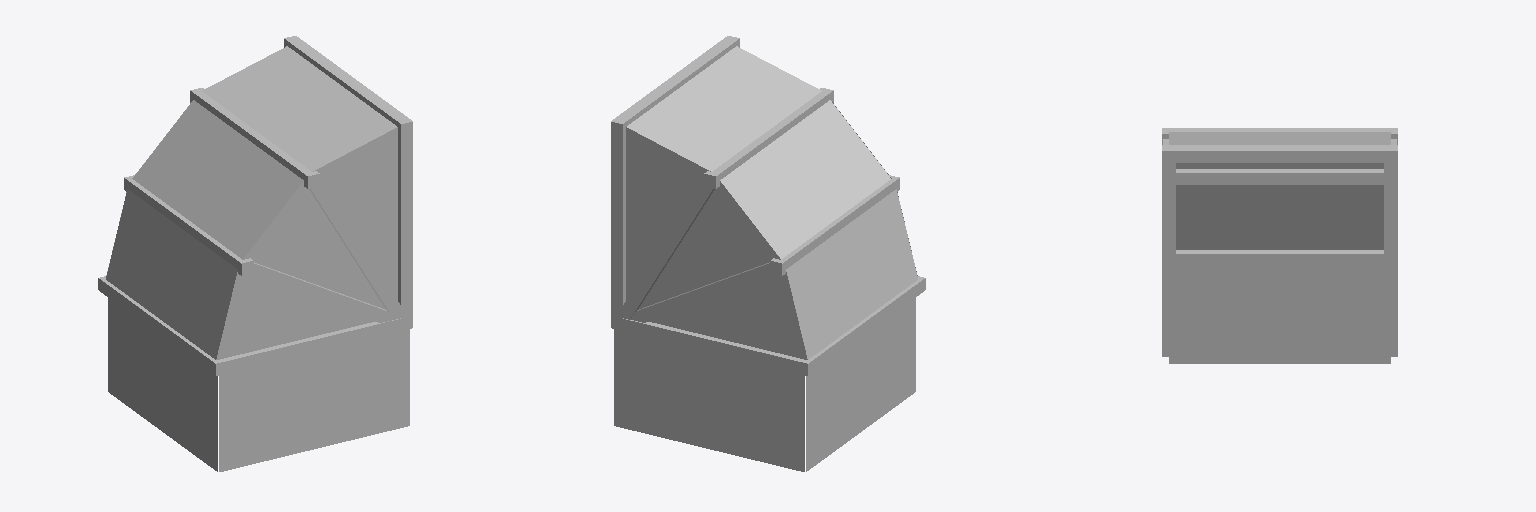
The model's file is mt_awning_basket_single.obj.
3 renders of one model, left to right at view 1: azimuth 30°, elevation 25°; view 2: azimuth 150°, elevation 25°; view 3: azimuth 270°, elevation 25°, orthographic.
Parts seen in each view (by area): view 1: cube.015, cube, cube.001, cube.000, cube.003, cube.012, cube.011, cube.013, cube.014, cube.010, cube.018, cube.016 (+4 smaller); view 2: cube.006, cube, cube.001, cube.000, cube.003, cube.004, cube.005, cube.008, cube.007, cube.009, cube.020, cube.016 (+4 smaller); view 3: cube.003, cube.000, cube.016, cube.002, cube.021, cube.001, cube.009, cube.010, cube, cube.022.
Part boxes in pixels (bbox=[...]): cube.015: bbox=[219, 329, 409, 471]; cube: bbox=[133, 100, 303, 259]; cube.001: bbox=[202, 46, 396, 171]; cube.000: bbox=[106, 189, 237, 359]; cube.003: bbox=[108, 298, 217, 471]; cube.012: bbox=[313, 127, 397, 299]; cube.011: bbox=[243, 181, 385, 309]; cube.013: bbox=[216, 272, 374, 359]; cube.014: bbox=[225, 316, 412, 372]; cube.010: bbox=[398, 134, 412, 318]; cube.018: bbox=[309, 179, 400, 319]; cube.016: bbox=[284, 36, 412, 136]; cube.006: bbox=[614, 329, 804, 471]; cube: bbox=[720, 100, 890, 259]; cube.001: bbox=[627, 46, 821, 171]; cube.000: bbox=[786, 189, 917, 359]; cube.003: bbox=[806, 298, 915, 471]; cube.004: bbox=[626, 127, 710, 299]; cube.005: bbox=[638, 181, 780, 309]; cube.008: bbox=[648, 272, 807, 359]; cube.007: bbox=[611, 316, 798, 372]; cube.009: bbox=[611, 134, 625, 318]; cube.020: bbox=[623, 179, 714, 319]; cube.016: bbox=[611, 36, 739, 136]; cube.003: bbox=[1169, 267, 1390, 363]; cube.000: bbox=[1176, 185, 1383, 249]; cube.016: bbox=[1162, 145, 1397, 162]; cube.002: bbox=[1176, 250, 1383, 266]; cube.021: bbox=[1176, 169, 1383, 184]; cube.001: bbox=[1169, 132, 1390, 144]; cube.009: bbox=[1384, 163, 1397, 344]; cube.010: bbox=[1162, 163, 1175, 344]; cube: bbox=[1176, 163, 1383, 168]; cube.022: bbox=[1162, 128, 1397, 144].
Size of the model in its own units: 1.03 by 1.53 by 1.06.